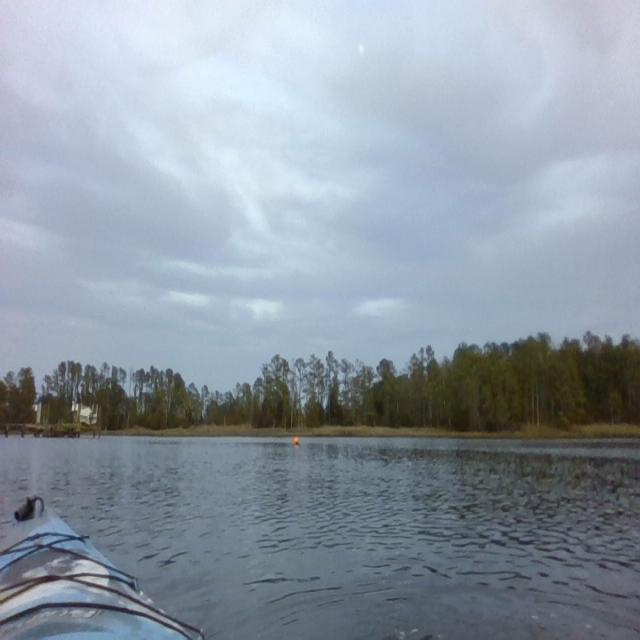Buoy: (293, 431, 302, 452)
